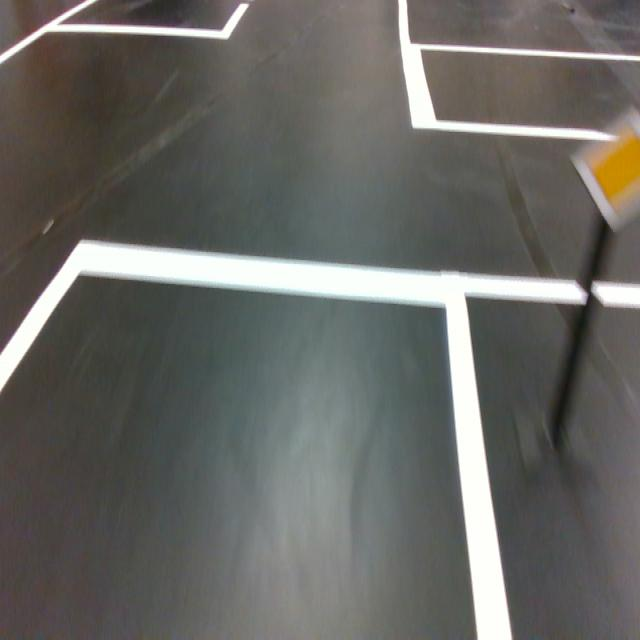priority-sign: (567, 104, 640, 235)
